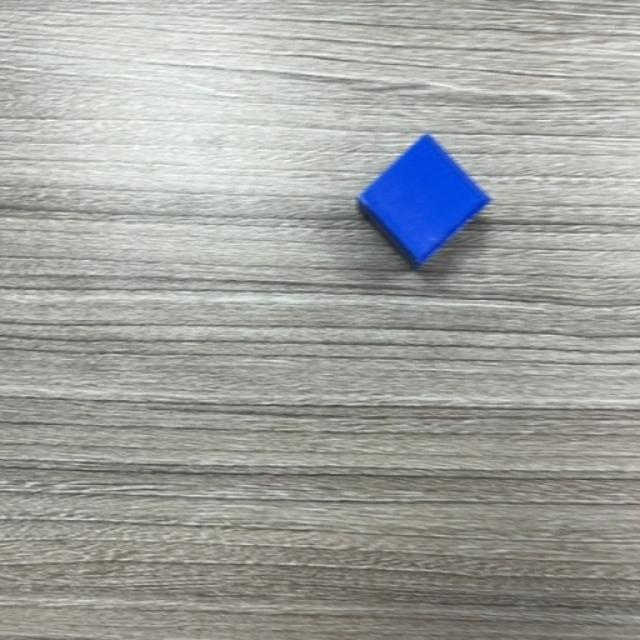Azul: (354, 135, 494, 270)
